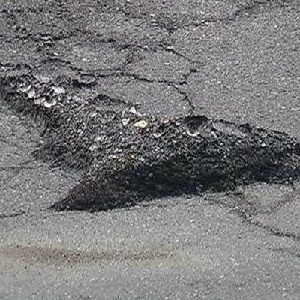pothole: (0, 61, 300, 217)
